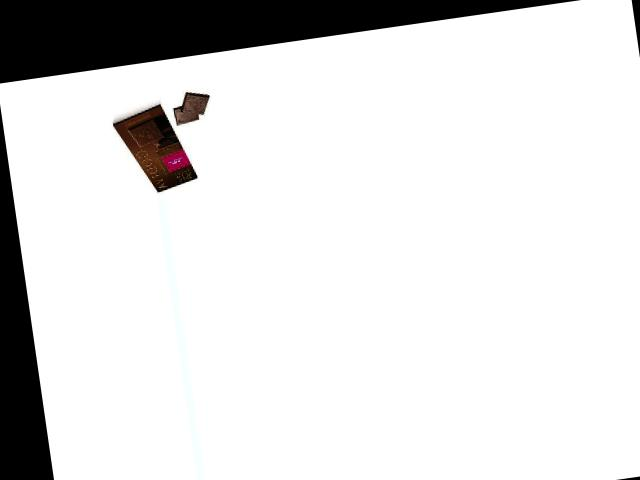chocolate: (110, 98, 200, 198)
